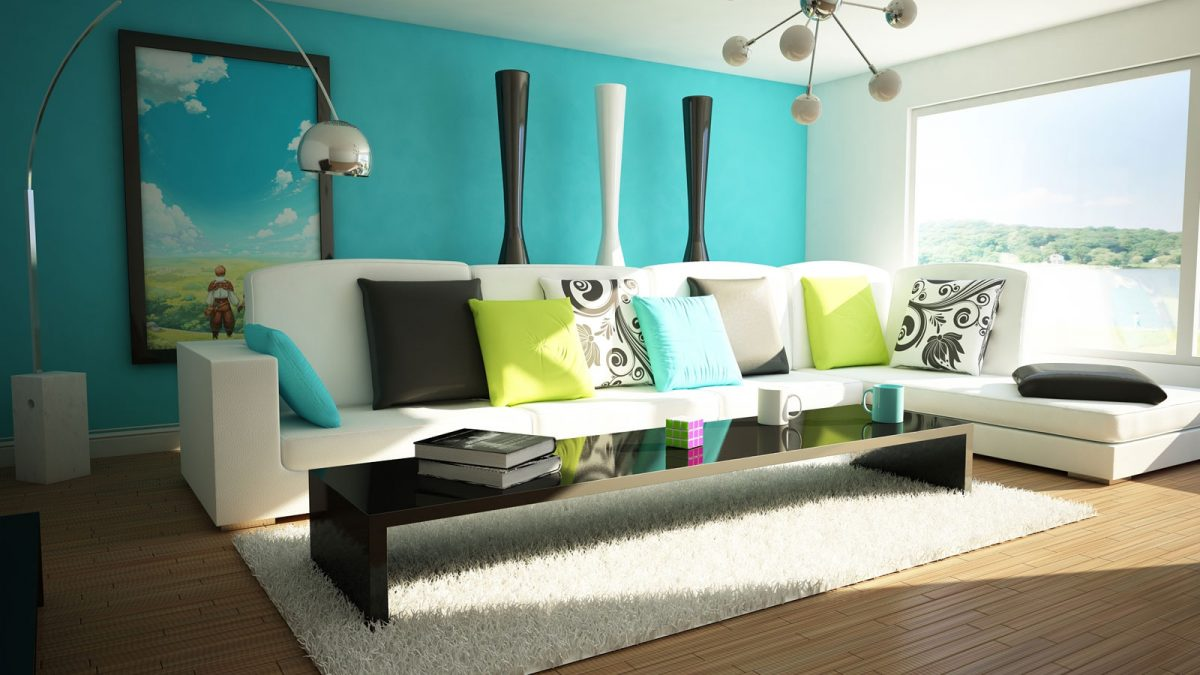biru: (639, 298, 738, 384), (256, 324, 339, 424), (869, 382, 906, 421)
hijau: (474, 296, 591, 404), (802, 278, 888, 365)
hitam: (323, 406, 973, 603), (360, 285, 485, 404), (497, 68, 528, 260), (681, 92, 712, 262), (1017, 367, 1161, 399)
putih: (594, 86, 622, 261), (760, 392, 791, 424)
